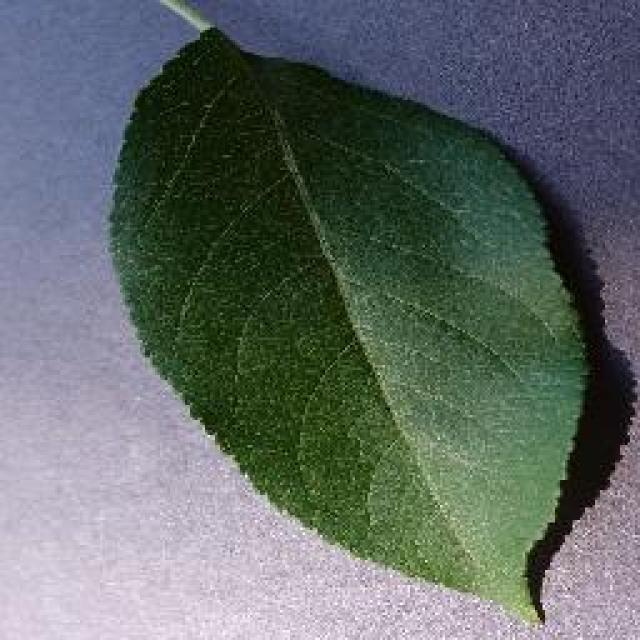apple healthy: (100, 17, 600, 625)
